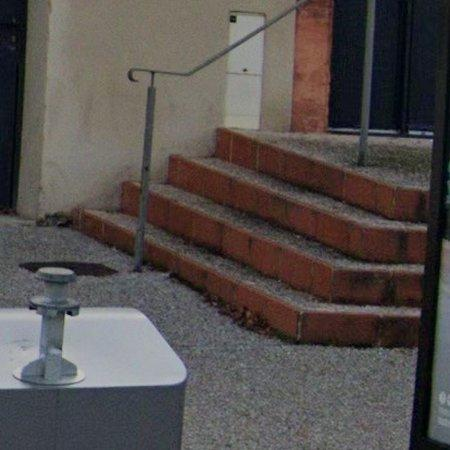stairs: (145, 128, 430, 347)
